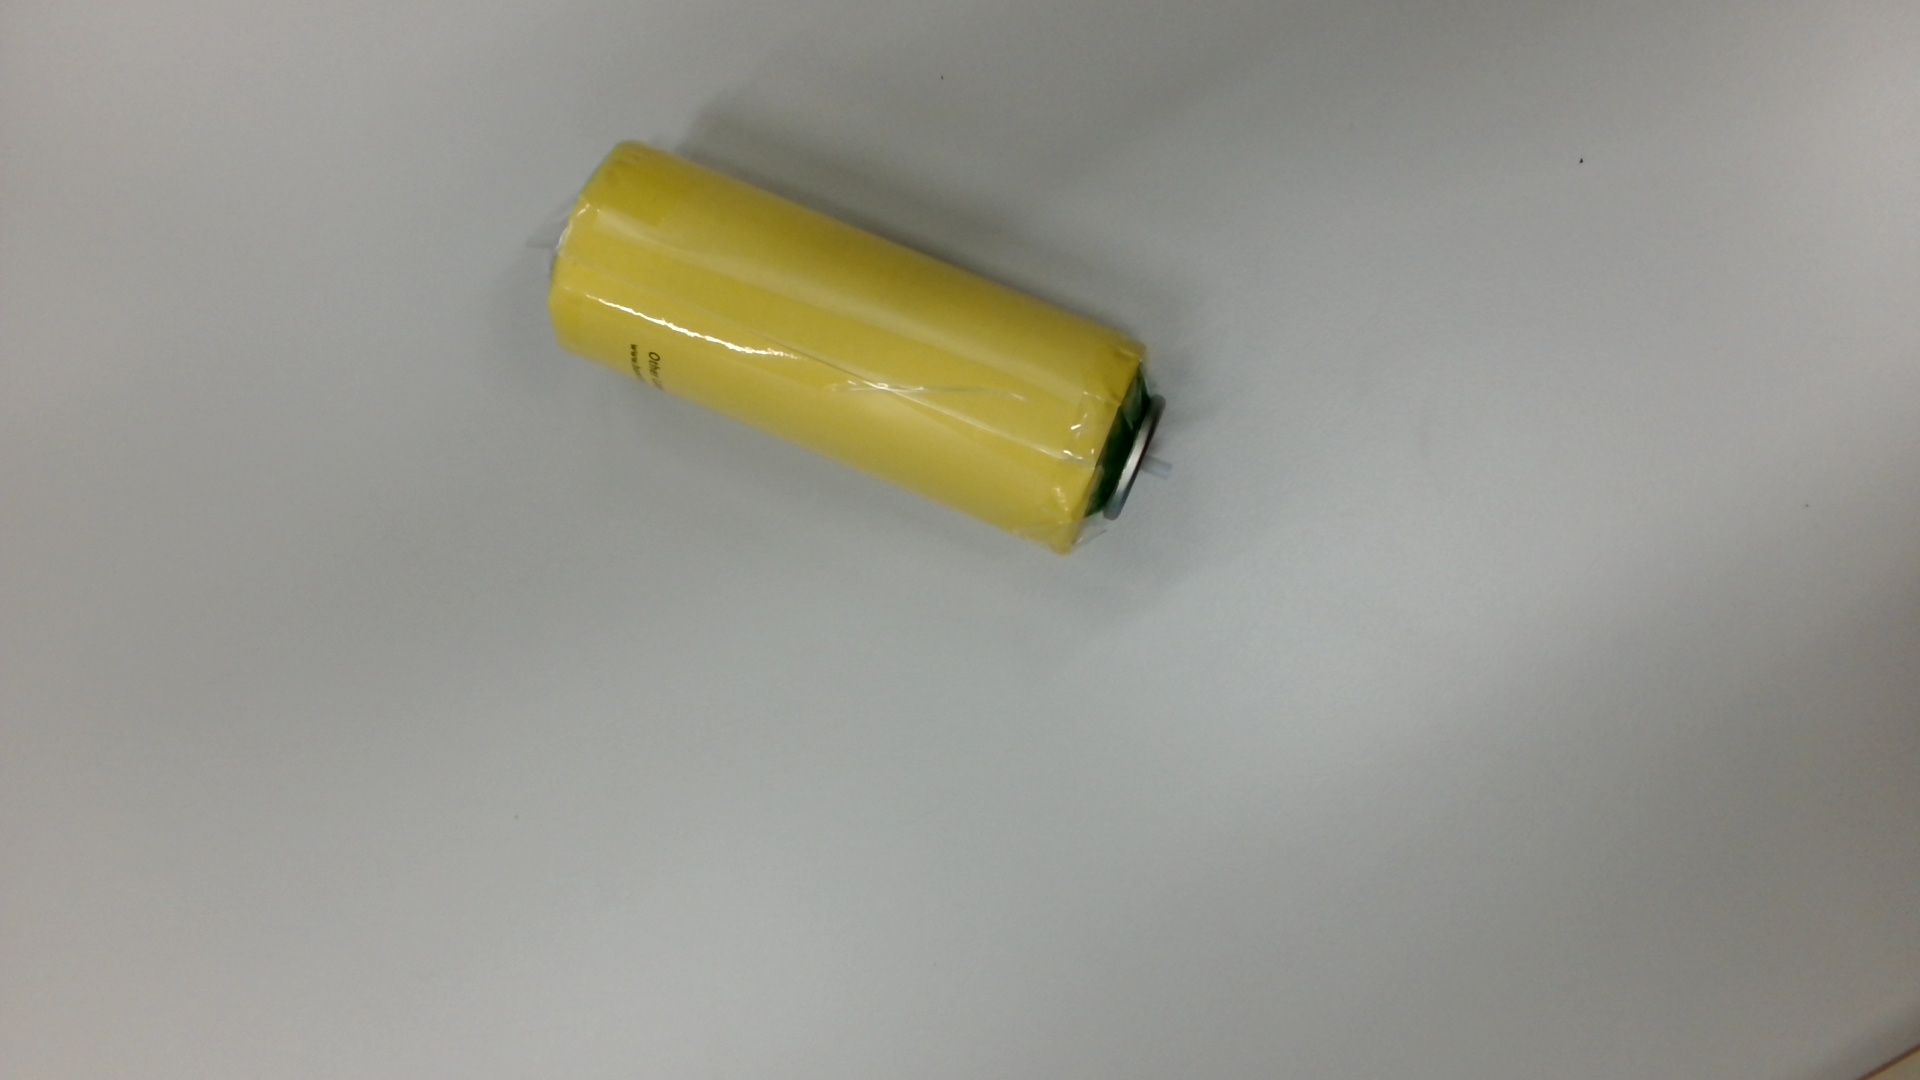Cylinder: (535, 131, 1200, 570)
